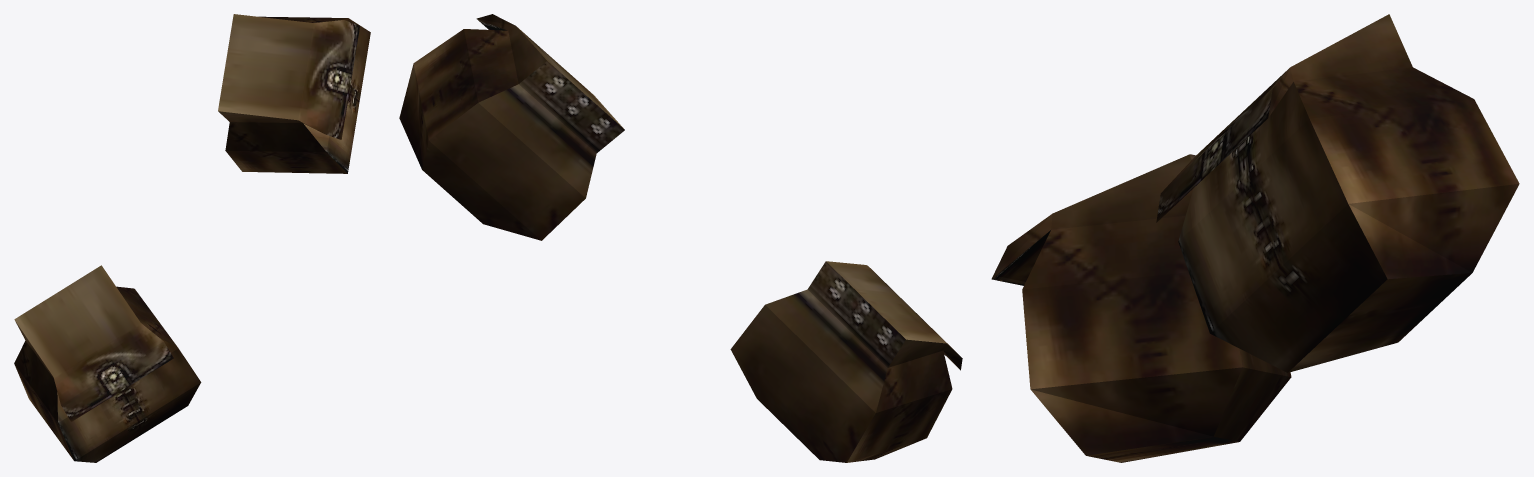
Rendered from STATIC_MIESZKI_FIX.glb.
The picture shows the model from 3 angles, left to right: view 1: azimuth 30°, elevation 25°; view 2: azimuth 150°, elevation 25°; view 3: azimuth 270°, elevation 25°; orthographic projection. The views are drawn at different scales.
Parts seen in each view (by area): view 1: STATIC_MIESZKI_FIX; view 2: STATIC_MIESZKI_FIX; view 3: STATIC_MIESZKI_FIX.
Part boxes in pixels (left/top/right/bottom): STATIC_MIESZKI_FIX: left=14, top=14, right=370, bottom=462; STATIC_MIESZKI_FIX: left=399, top=14, right=962, bottom=462; STATIC_MIESZKI_FIX: left=991, top=14, right=1519, bottom=462.
Size of the model in its own units: 0.3181 by 0.2668 by 0.2001.
1 material, 1 textured.
